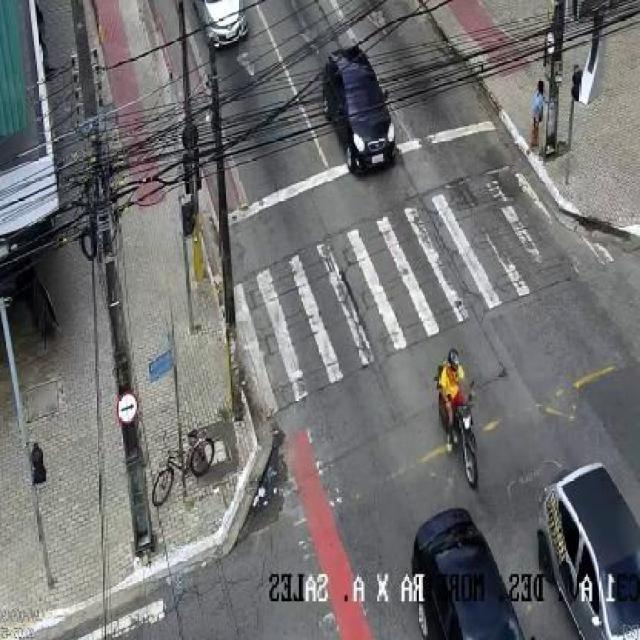Car: (535, 463, 640, 640), (412, 509, 532, 640), (326, 43, 394, 172), (191, 0, 248, 50)
Cycle: (429, 380, 483, 490), (149, 429, 215, 510)
